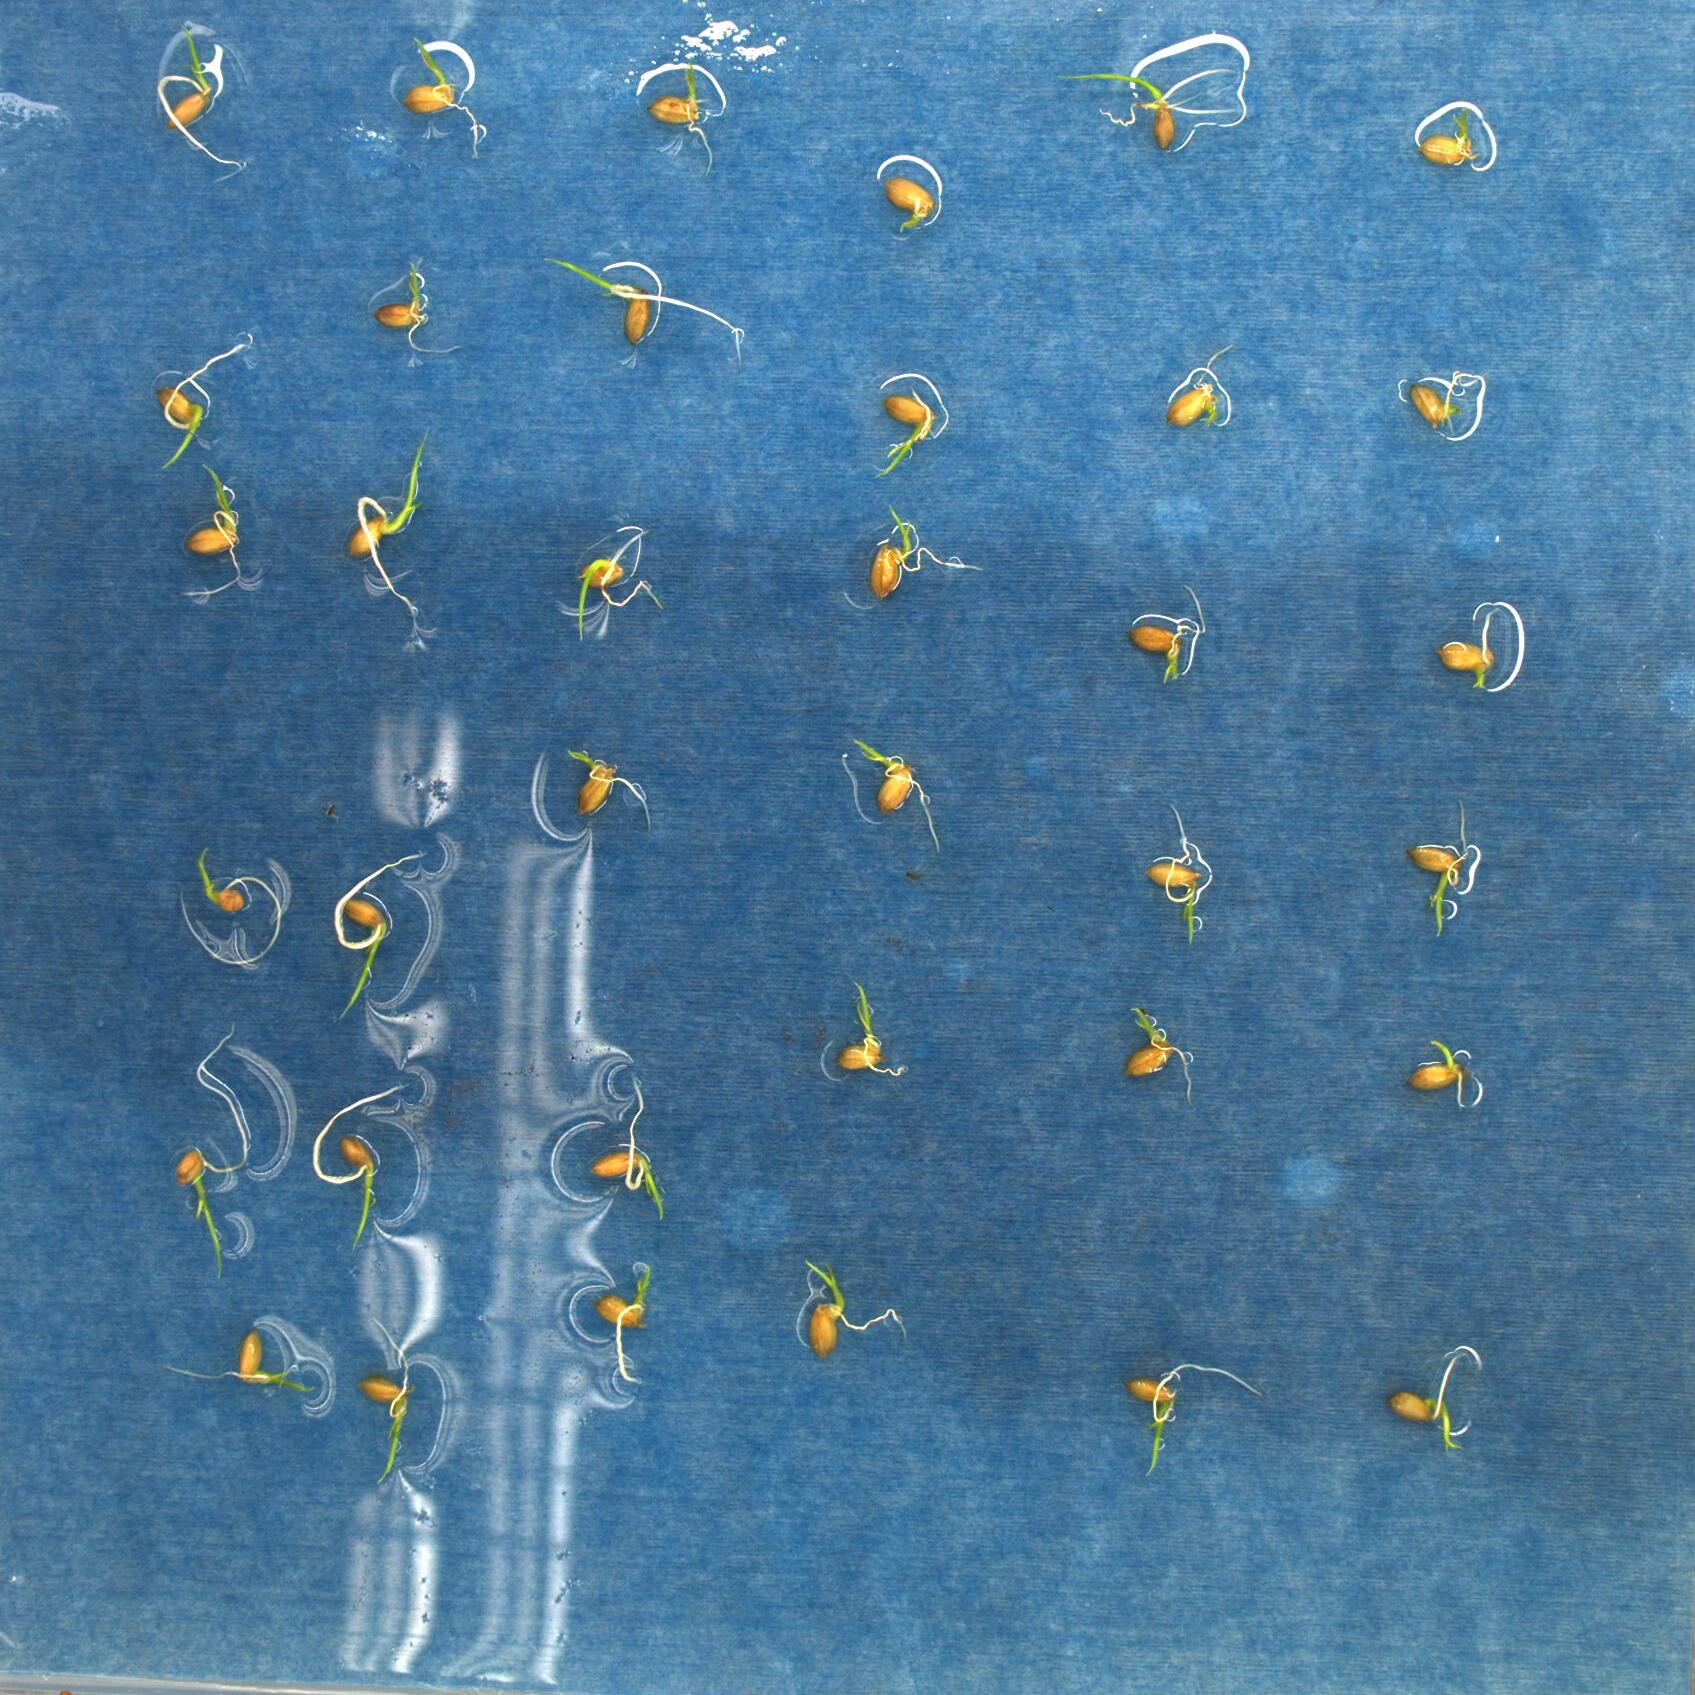not sprout: (1433, 594, 1518, 703), (373, 264, 463, 366), (1155, 354, 1239, 453), (1419, 116, 1495, 188), (875, 168, 947, 236)
sprout: (158, 1018, 275, 1290), (531, 250, 757, 374), (338, 418, 438, 632), (303, 1077, 413, 1267), (1121, 1357, 1267, 1481), (154, 328, 261, 473), (587, 1074, 675, 1232), (557, 520, 667, 641), (324, 857, 413, 1006), (846, 730, 947, 860), (345, 1330, 428, 1485), (191, 834, 287, 969), (394, 56, 490, 189), (861, 508, 976, 618), (782, 1257, 906, 1358), (1409, 799, 1492, 945), (581, 1256, 666, 1394), (1385, 360, 1503, 456), (1386, 1350, 1479, 1468), (183, 467, 259, 612), (823, 979, 911, 1101), (157, 50, 241, 174), (1125, 588, 1222, 694), (871, 369, 951, 483), (166, 1332, 304, 1395), (649, 65, 723, 183), (1116, 1012, 1198, 1114), (1149, 820, 1215, 945), (1405, 1029, 1496, 1108), (556, 739, 638, 826), (1158, 96, 1237, 183)
